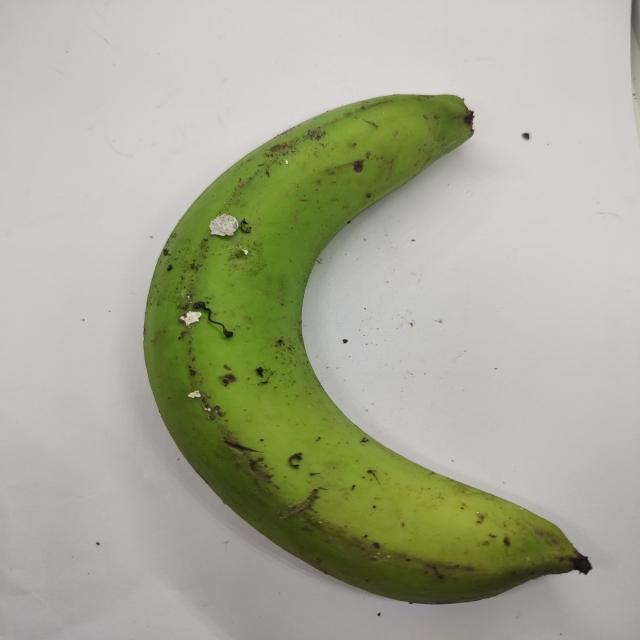Raw: (115, 85, 627, 610)
